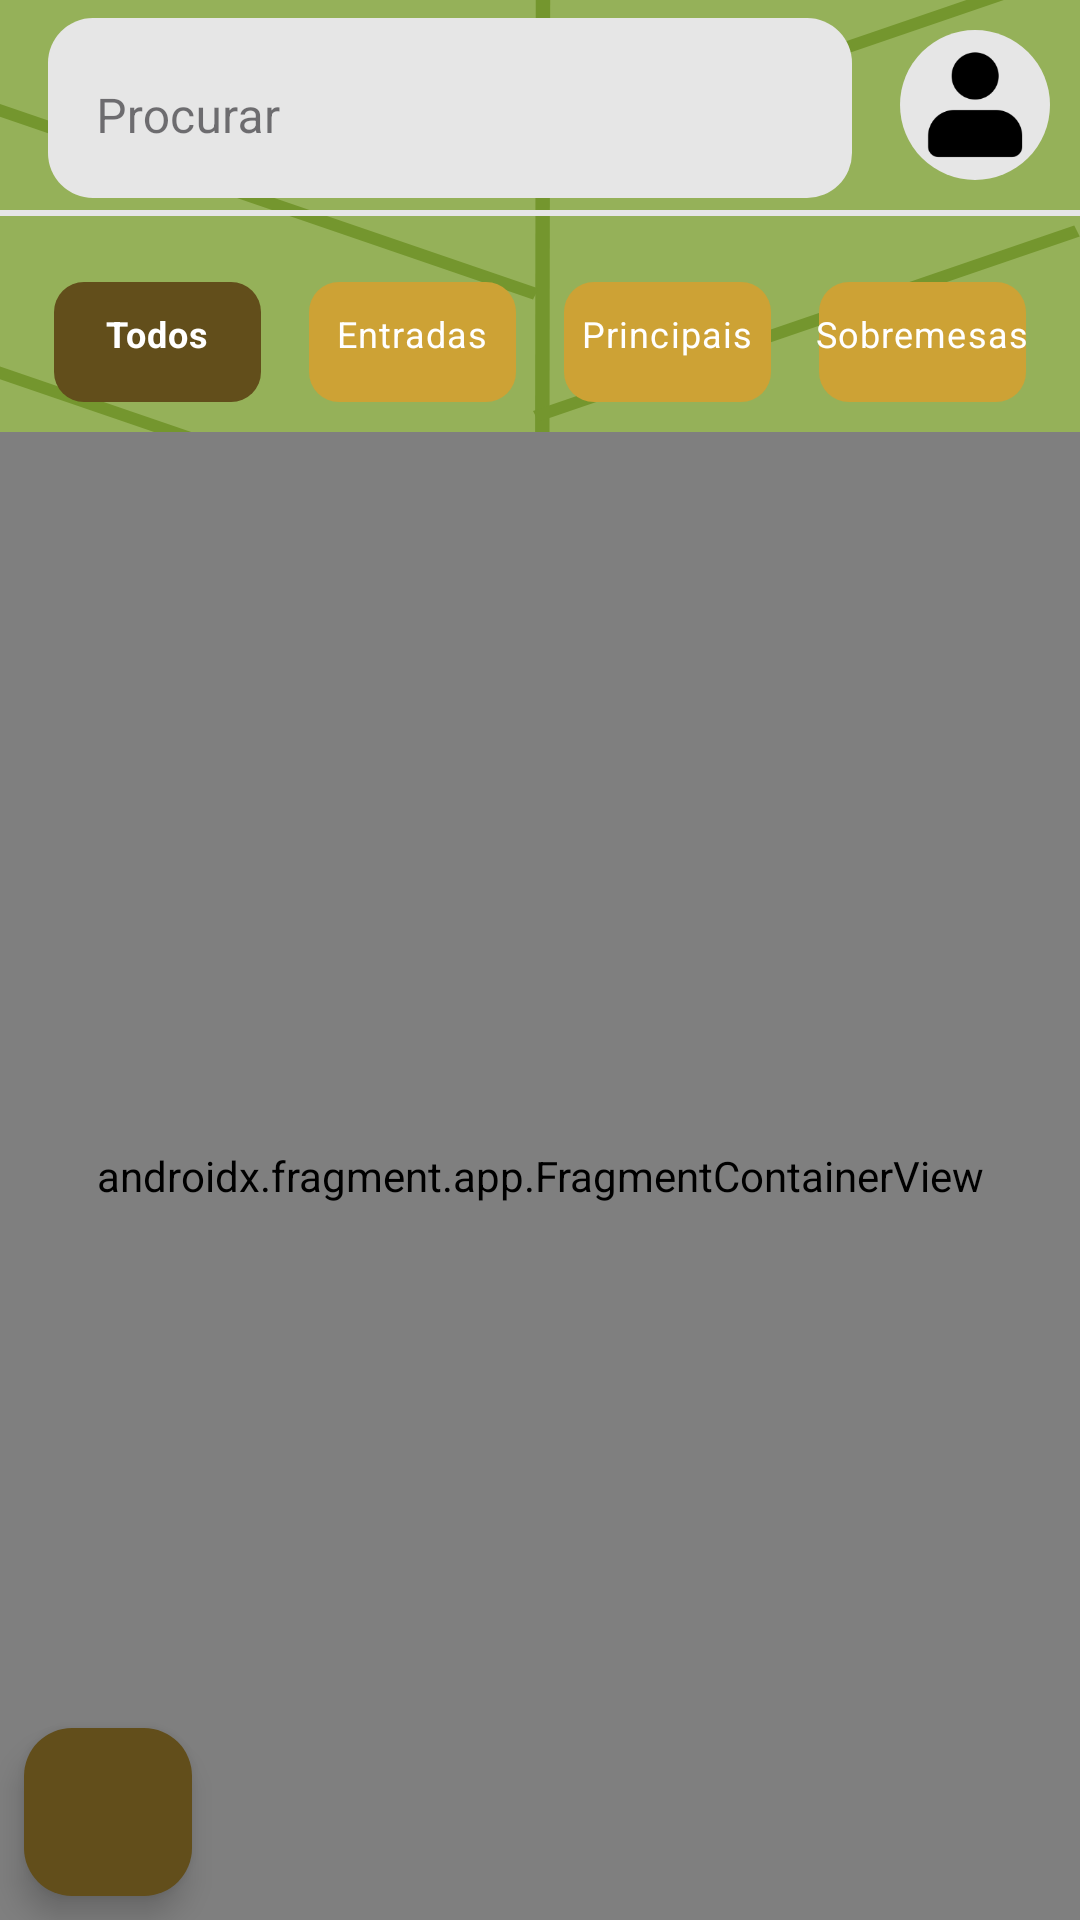

Icon bounding boxes for this 1080 x 1920 phone screenshot, format {"left": x1, "top": y1, "right": x2, "bottom": y2}:
perfil: {"left": 900, "top": 30, "right": 1050, "bottom": 180}
